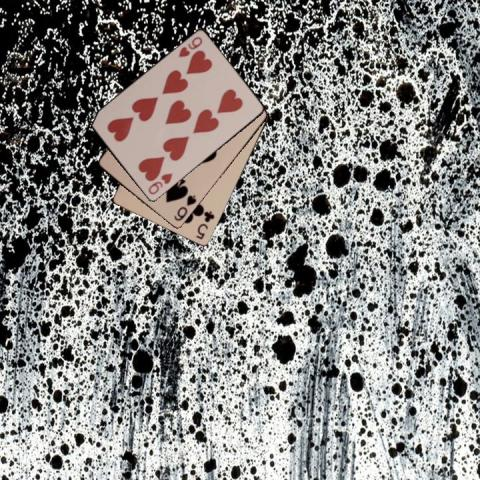5c: (193, 208, 216, 241)
6s: (171, 192, 198, 223)
9h: (145, 171, 174, 196), (175, 34, 204, 59)
